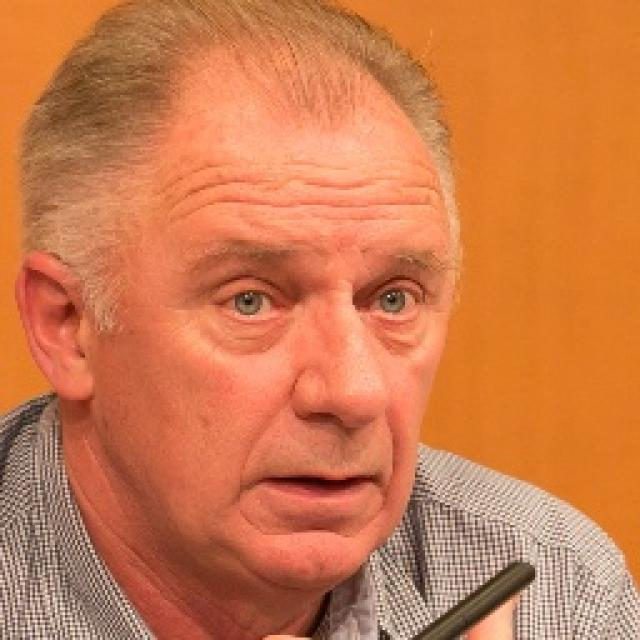earlobe: (51, 352, 95, 403)
eye: (212, 290, 281, 320), (367, 286, 425, 317)
nose: (295, 408, 379, 462)
wholeear: (15, 252, 94, 403)
